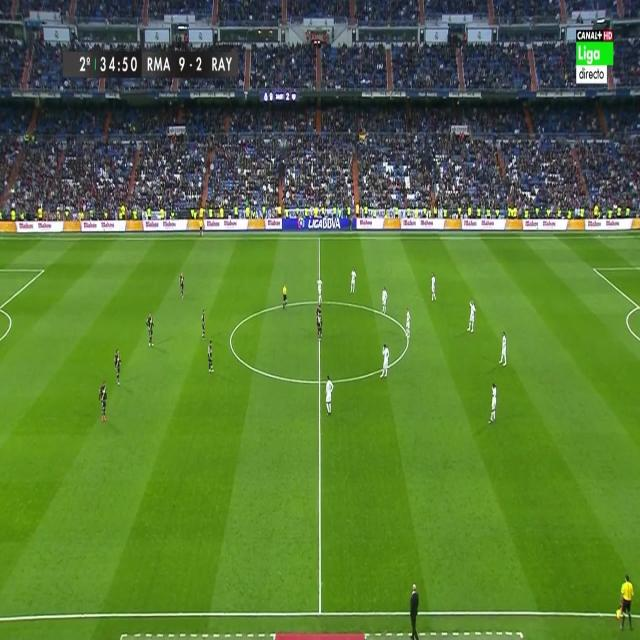Player: (97, 379, 110, 429), (486, 381, 497, 427), (498, 328, 509, 370), (324, 373, 334, 419), (113, 347, 123, 391), (380, 340, 390, 380), (467, 298, 477, 336), (146, 313, 156, 348), (314, 273, 324, 308), (206, 337, 215, 375), (403, 308, 412, 344), (348, 266, 358, 297), (178, 270, 188, 300), (316, 305, 324, 341), (430, 270, 438, 303), (381, 284, 388, 317), (201, 309, 207, 344)
Referee: (614, 573, 636, 631), (282, 284, 288, 312), (197, 217, 205, 238)
